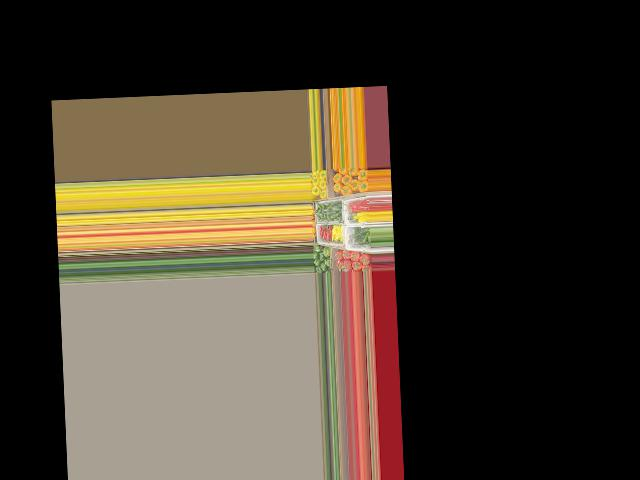bell_pepper: (321, 257, 332, 267)
